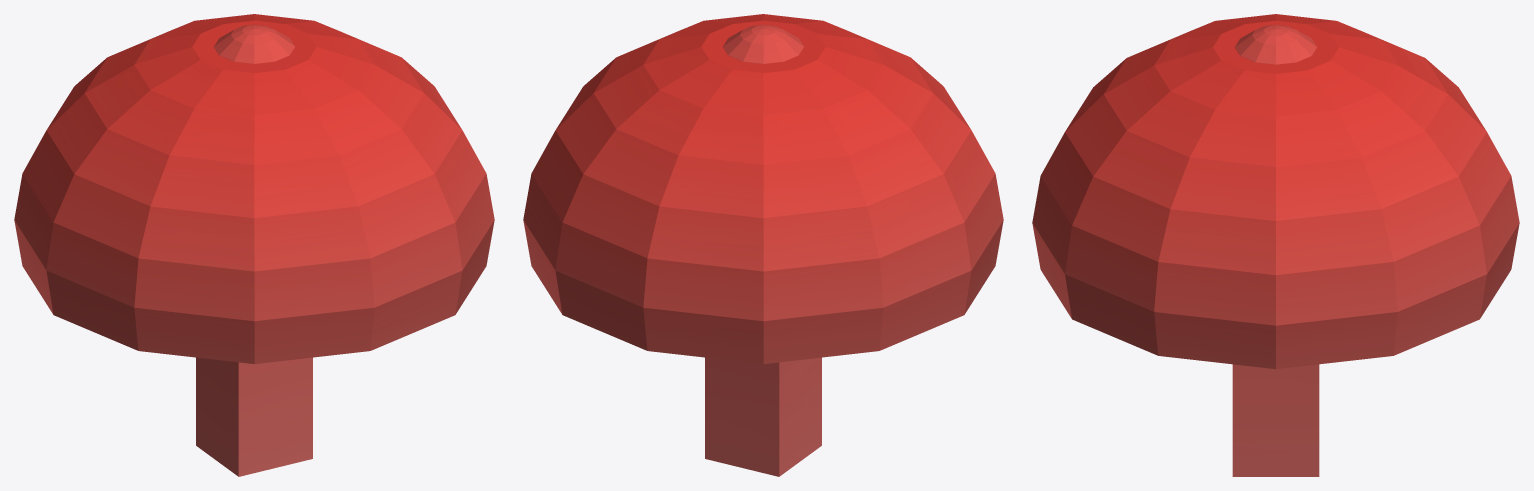
Rendered from SM_Alarm_up_01.fbx.
3 views of the same model, side by side, from view 1: azimuth 30°, elevation 25°; view 2: azimuth 150°, elevation 25°; view 3: azimuth 270°, elevation 25° (orthographic).
Visible parts, largest first — view 1: SM_Alarm_up_01; view 2: SM_Alarm_up_01; view 3: SM_Alarm_up_01.
Boxes of the visible parts, x1,y1,x2,y2 form: SM_Alarm_up_01: [14, 14, 494, 476]; SM_Alarm_up_01: [523, 14, 1003, 476]; SM_Alarm_up_01: [1032, 14, 1519, 476].
Bounding box in the file's own units: 5.62 × 5.46 × 5.62.
